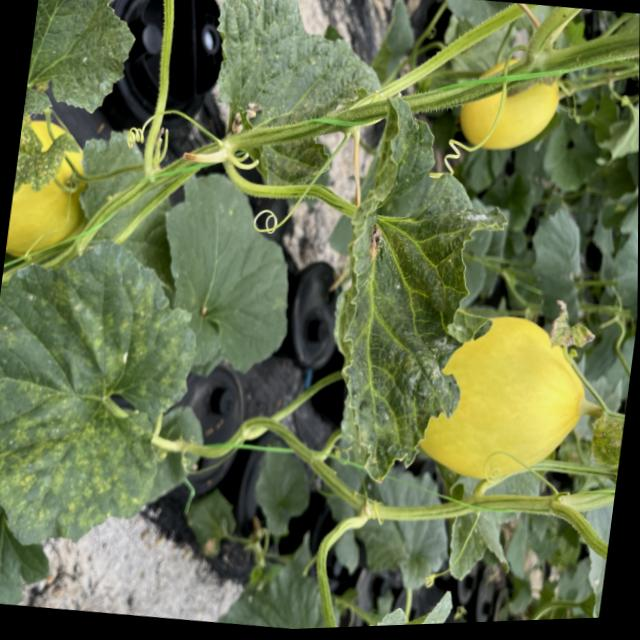CMV: (311, 80, 541, 503), (19, 0, 147, 155)
downy mildew: (0, 221, 217, 567)
